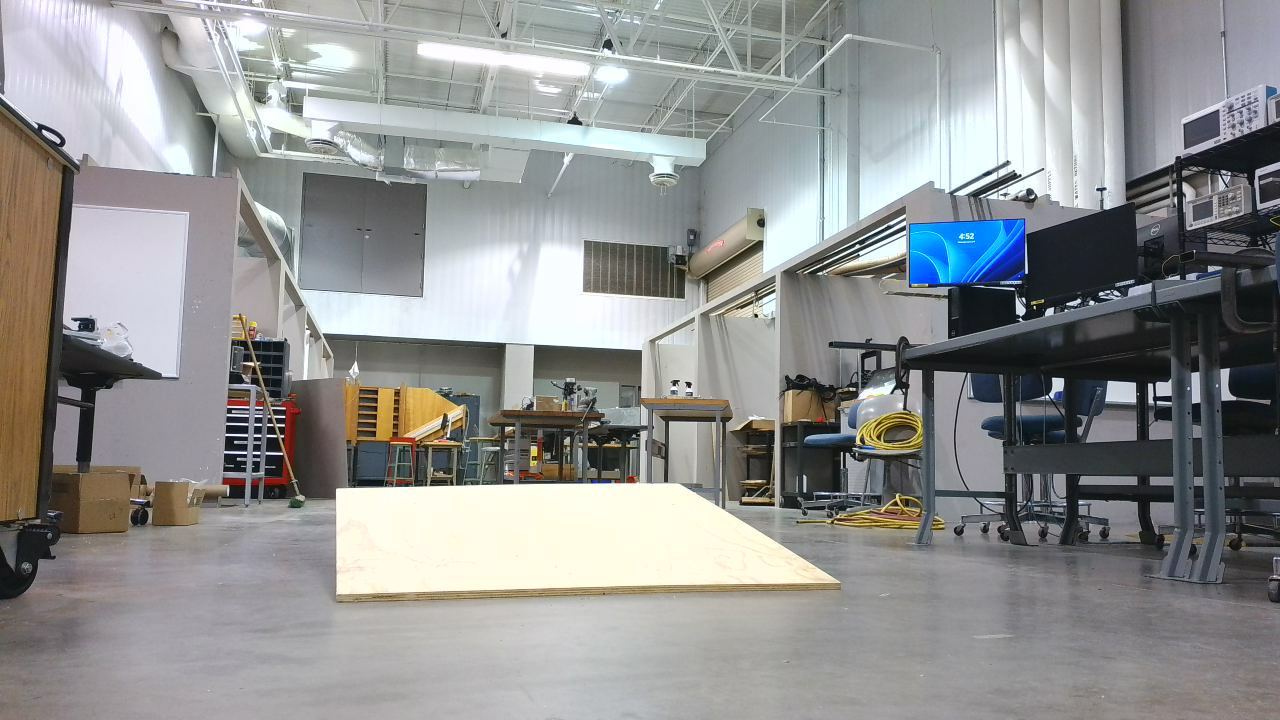ramp: (335, 484, 853, 612)
